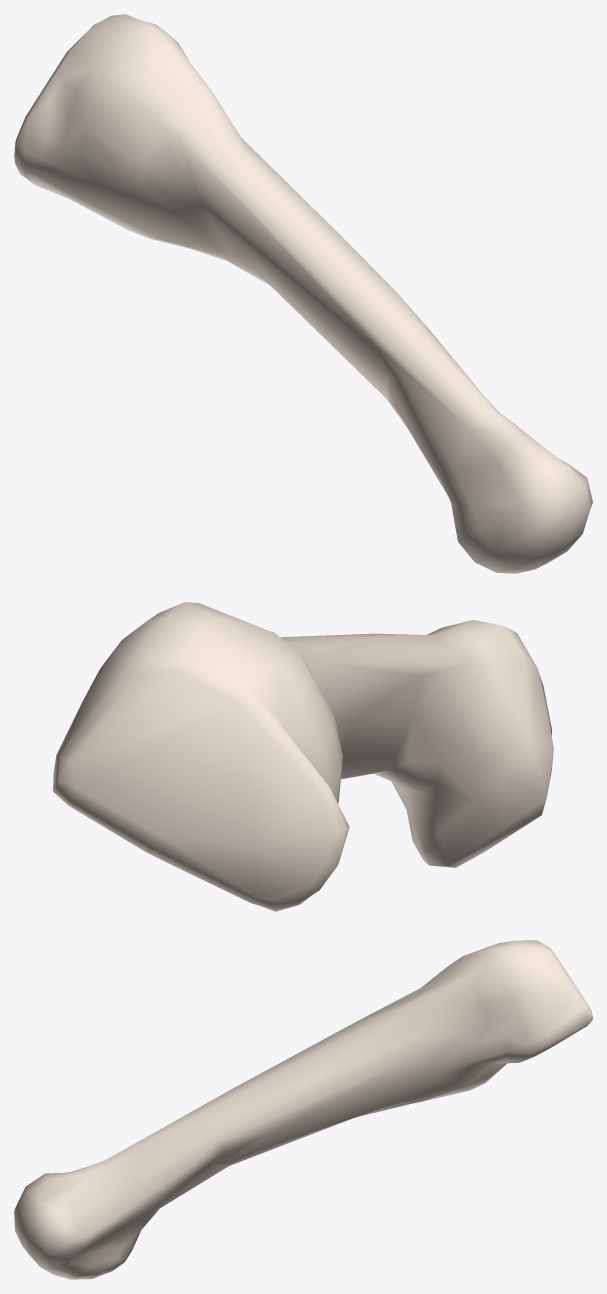
File: left_metatarsal_4.glb
3 views of the same model, one above another, from view 1: azimuth 30°, elevation 25°; view 2: azimuth 150°, elevation 25°; view 3: azimuth 270°, elevation 25° (orthographic). The views are drawn at different scales.
Parts seen in each view (by area): view 1: Fourth metatarsal bone.r; view 2: Fourth metatarsal bone.r; view 3: Fourth metatarsal bone.r.
Part boxes in pixels (x1=…): Fourth metatarsal bone.r: x1=14, y1=14, x2=592, y2=573; Fourth metatarsal bone.r: x1=53, y1=602, x2=553, y2=911; Fourth metatarsal bone.r: x1=14, y1=940, x2=592, y2=1279.
Bounding box in the file's own units: 0.0281 × 0.0363 × 0.0649.
